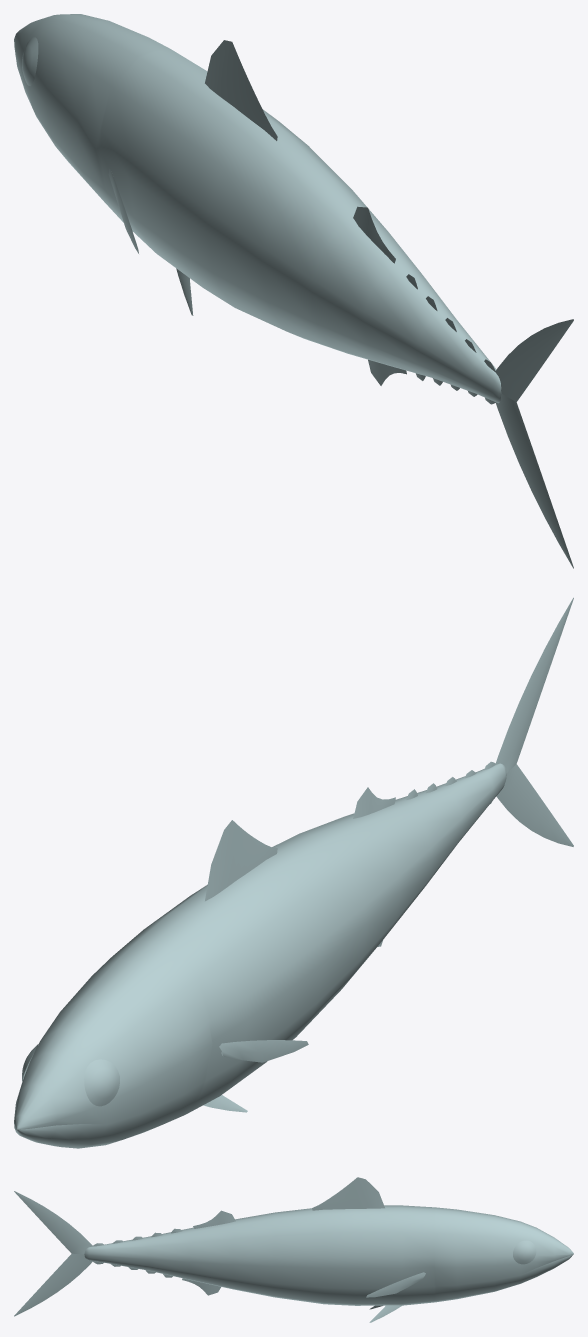
File: pacific_mackerel_game.glb
3 views of the same model, one above another, from view 1: azimuth 30°, elevation 25°; view 2: azimuth 150°, elevation 25°; view 3: azimuth 270°, elevation 25° (orthographic). The views are drawn at different scales.
Visible parts, largest first — view 1: pacific_mackerel_game; view 2: pacific_mackerel_game; view 3: pacific_mackerel_game.
Part boxes in pixels (left/top/right/bottom): pacific_mackerel_game: left=14, top=14, right=573, bottom=568; pacific_mackerel_game: left=14, top=597, right=573, bottom=1148; pacific_mackerel_game: left=14, top=1177, right=573, bottom=1322.
Size of the model in its own units: 0.0702 by 0.1096 by 0.3991.
